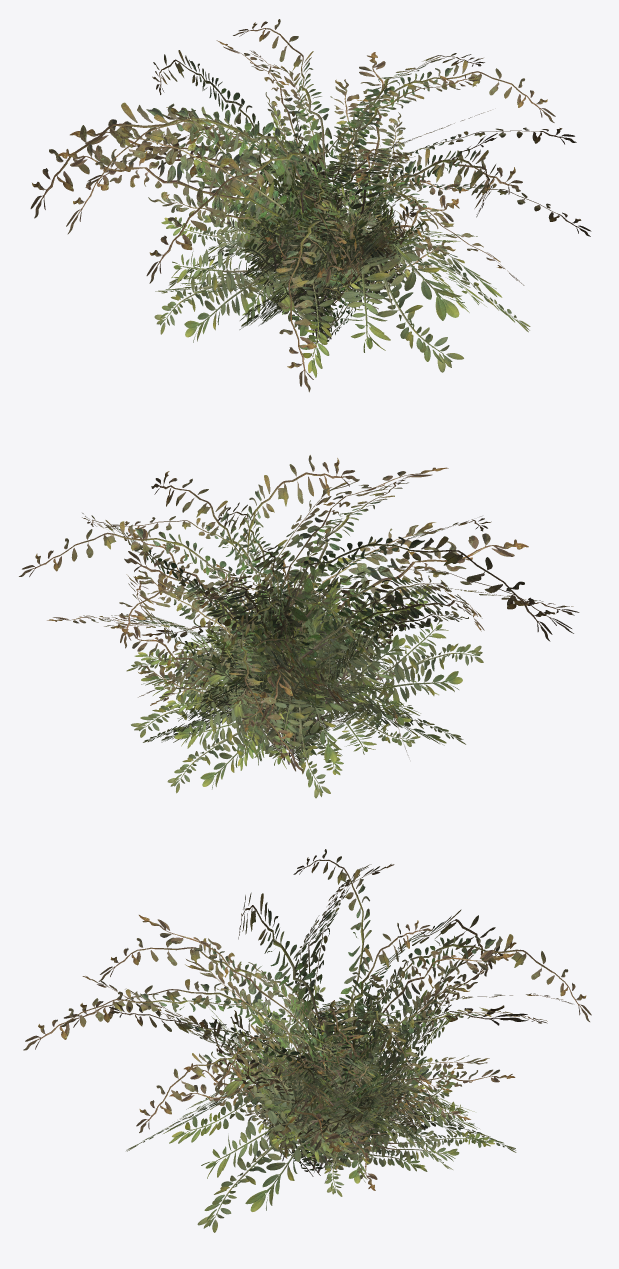
Rendered from bg_atm_foliage_bushtree03_sm_ksy.FBX.
The picture shows the model from 3 angles, top to bottom: view 1: azimuth 30°, elevation 25°; view 2: azimuth 150°, elevation 25°; view 3: azimuth 270°, elevation 25°; orthographic projection. The views are drawn at different scales.
Parts seen in each view (by area): view 1: bg_atm_foliage_bushtree03_sm_ksy; view 2: bg_atm_foliage_bushtree03_sm_ksy; view 3: bg_atm_foliage_bushtree03_sm_ksy.
Part boxes in pixels (x1,y1,x2,y2): bg_atm_foliage_bushtree03_sm_ksy: (30, 19, 591, 392); bg_atm_foliage_bushtree03_sm_ksy: (19, 455, 579, 798); bg_atm_foliage_bushtree03_sm_ksy: (23, 849, 591, 1232).
Size of the model in its own units: 322 by 159 by 327.
